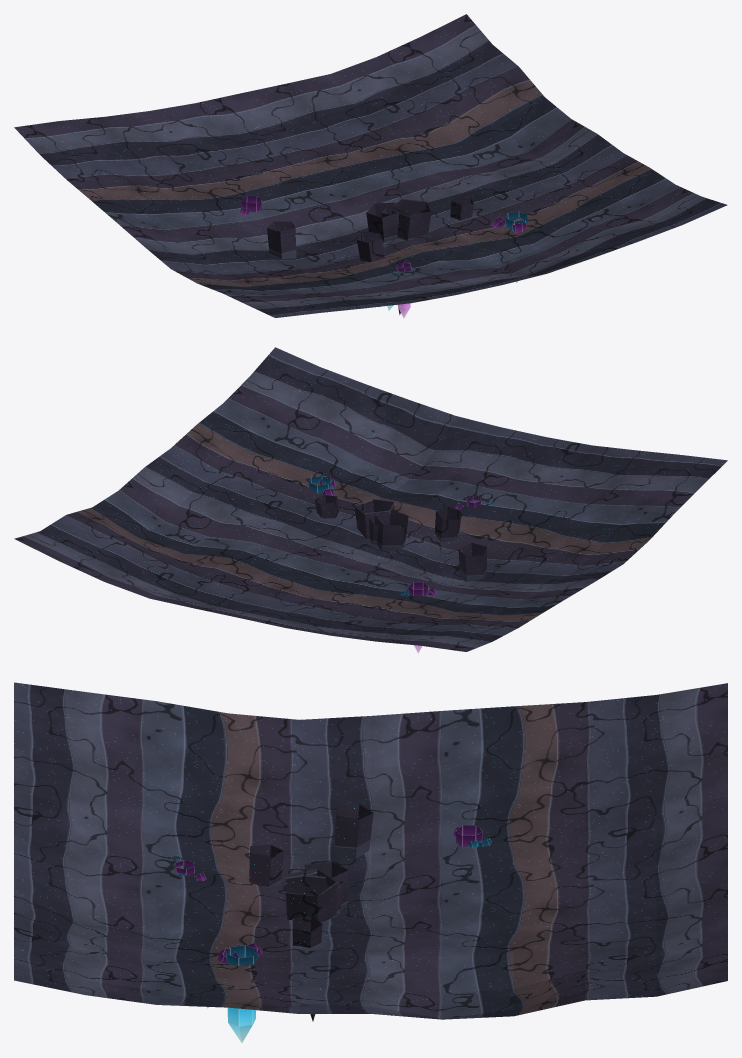
Rendered from cave_ceiling_cluster.glb.
3 renders of one model, top to bottom at view 1: azimuth 30°, elevation 25°; view 2: azimuth 150°, elevation 25°; view 3: azimuth 270°, elevation 25°, orthographic. The views are drawn at different scales.
Visible parts, largest first — view 1: cave_ceiling_cluster; view 2: cave_ceiling_cluster; view 3: cave_ceiling_cluster.
Part boxes in pixels (left/top/right/bottom): cave_ceiling_cluster: left=14, top=14, right=727, bottom=318; cave_ceiling_cluster: left=14, top=347, right=727, bottom=653; cave_ceiling_cluster: left=14, top=682, right=727, bottom=1042.
Bounding box in the file's own units: 9.6 × 2.78 × 9.6.
Materials: 3 (3 with a texture image).
